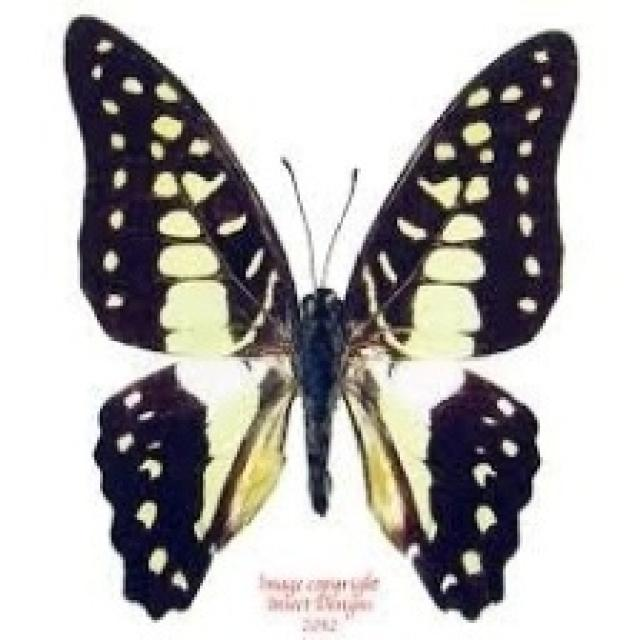butterfly: (60, 11, 580, 620)
